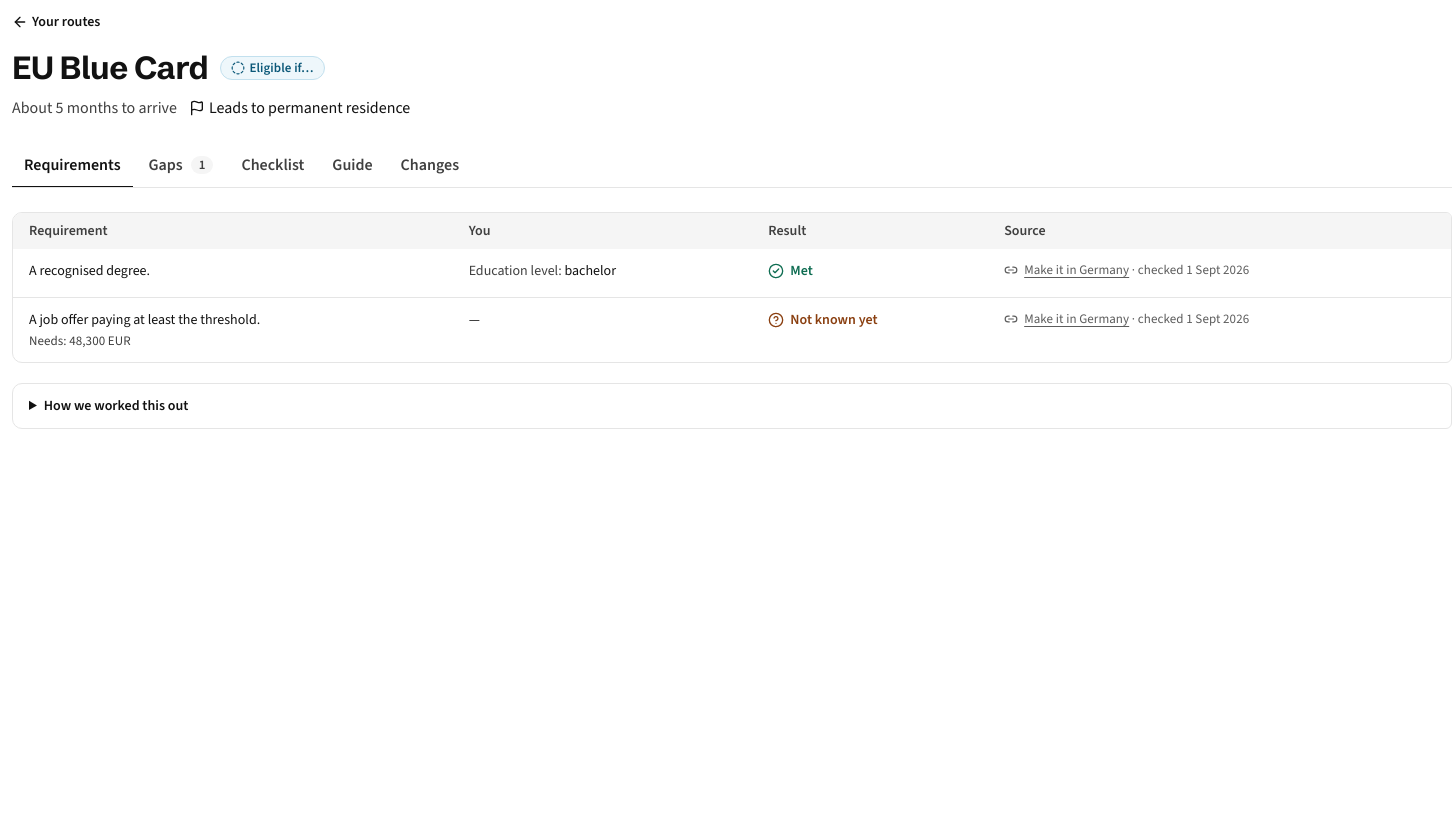
RouteView › adds a gap to the plan under its route's key
This screenshot has width=1452, height=822.
Step 1. Click the tab "Gaps 1" → (181, 166), box [136, 144, 225, 188]
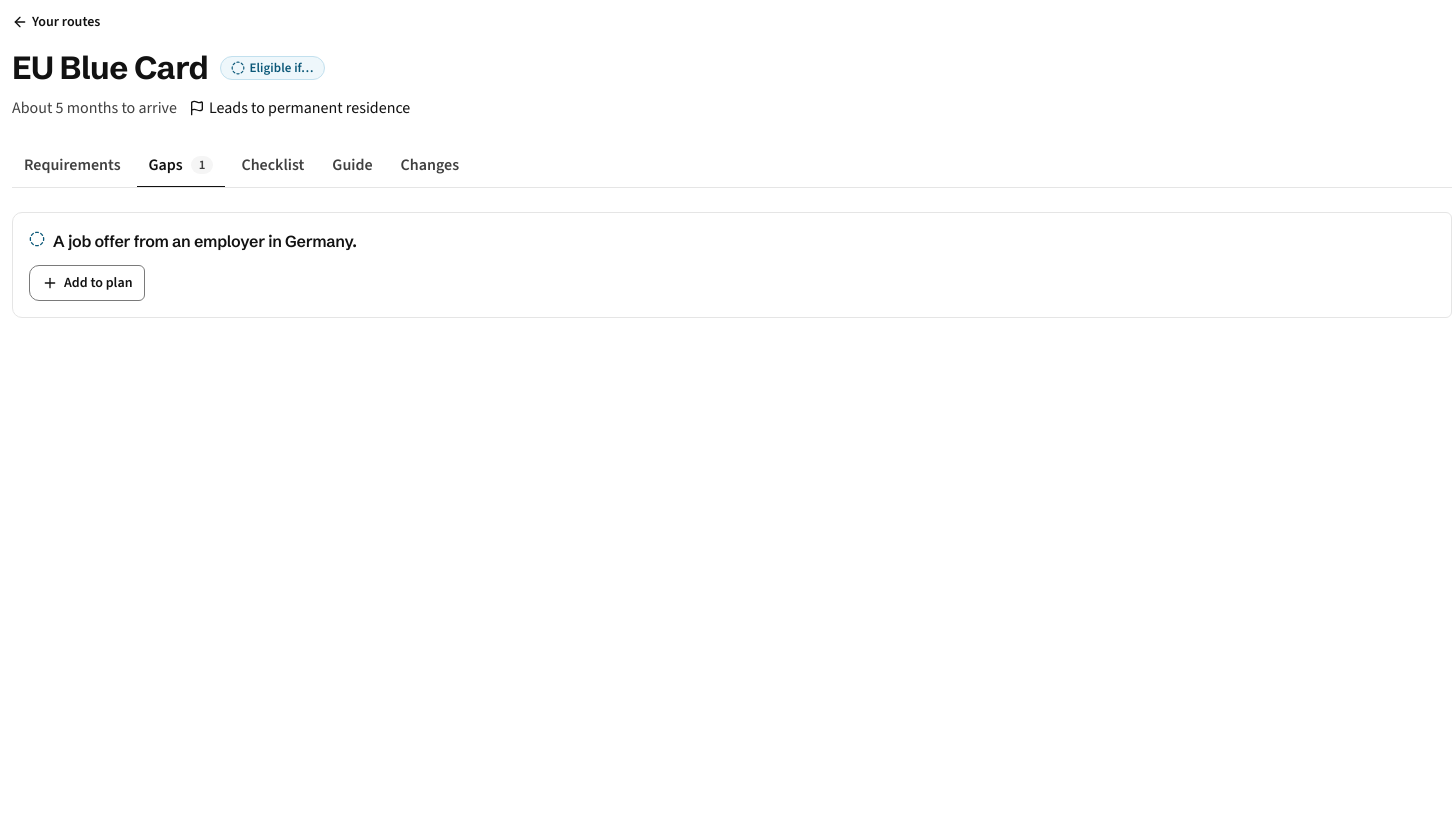
Step 2. Click the button "Add to plan" → (87, 283), box [29, 265, 146, 301]
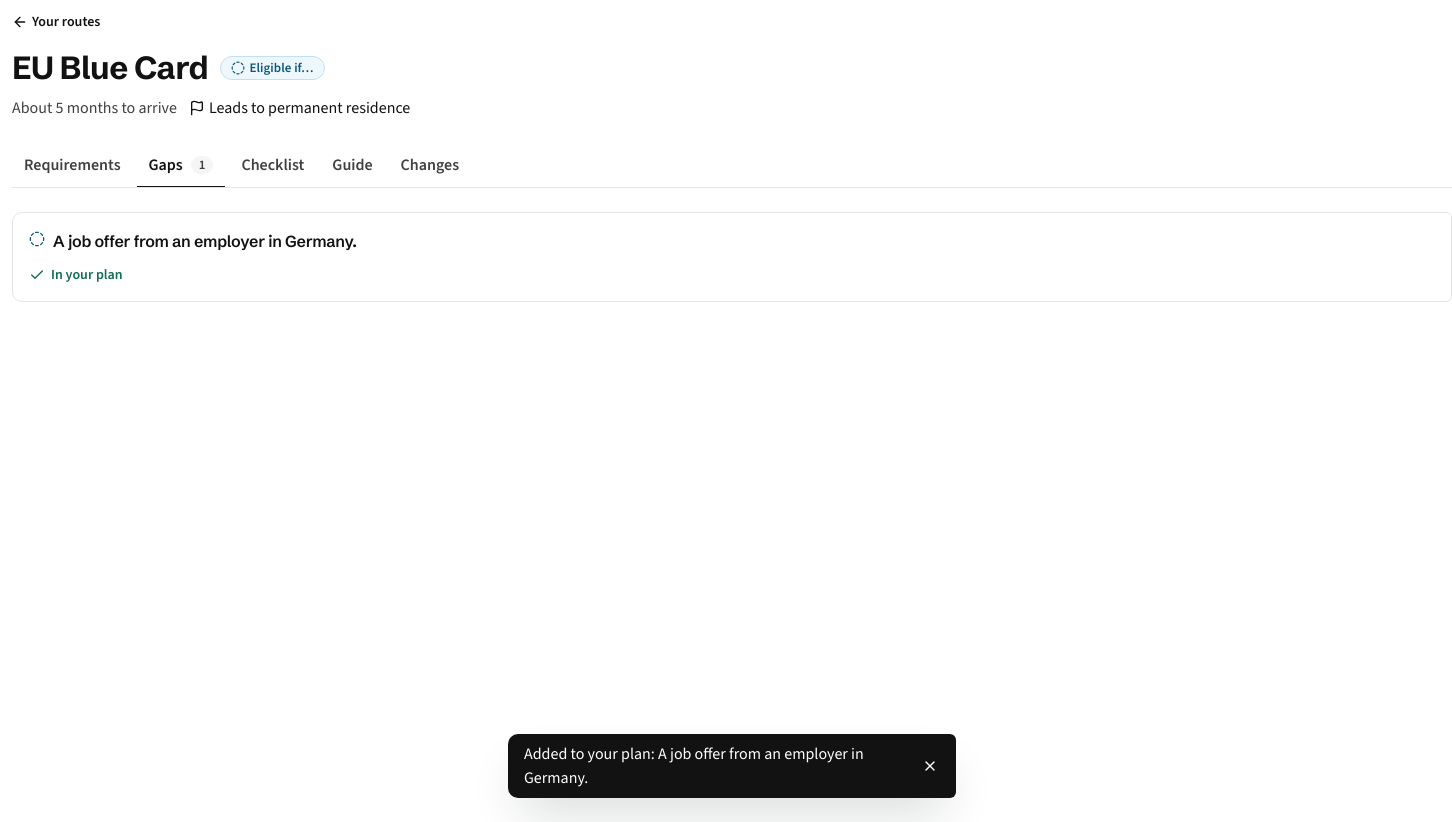
Result: the text "In your plan" is shown at [29, 265, 123, 284]
